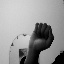a: (27, 21, 54, 53)
